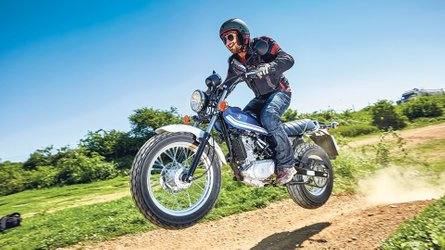helmet: (197, 11, 271, 93)
